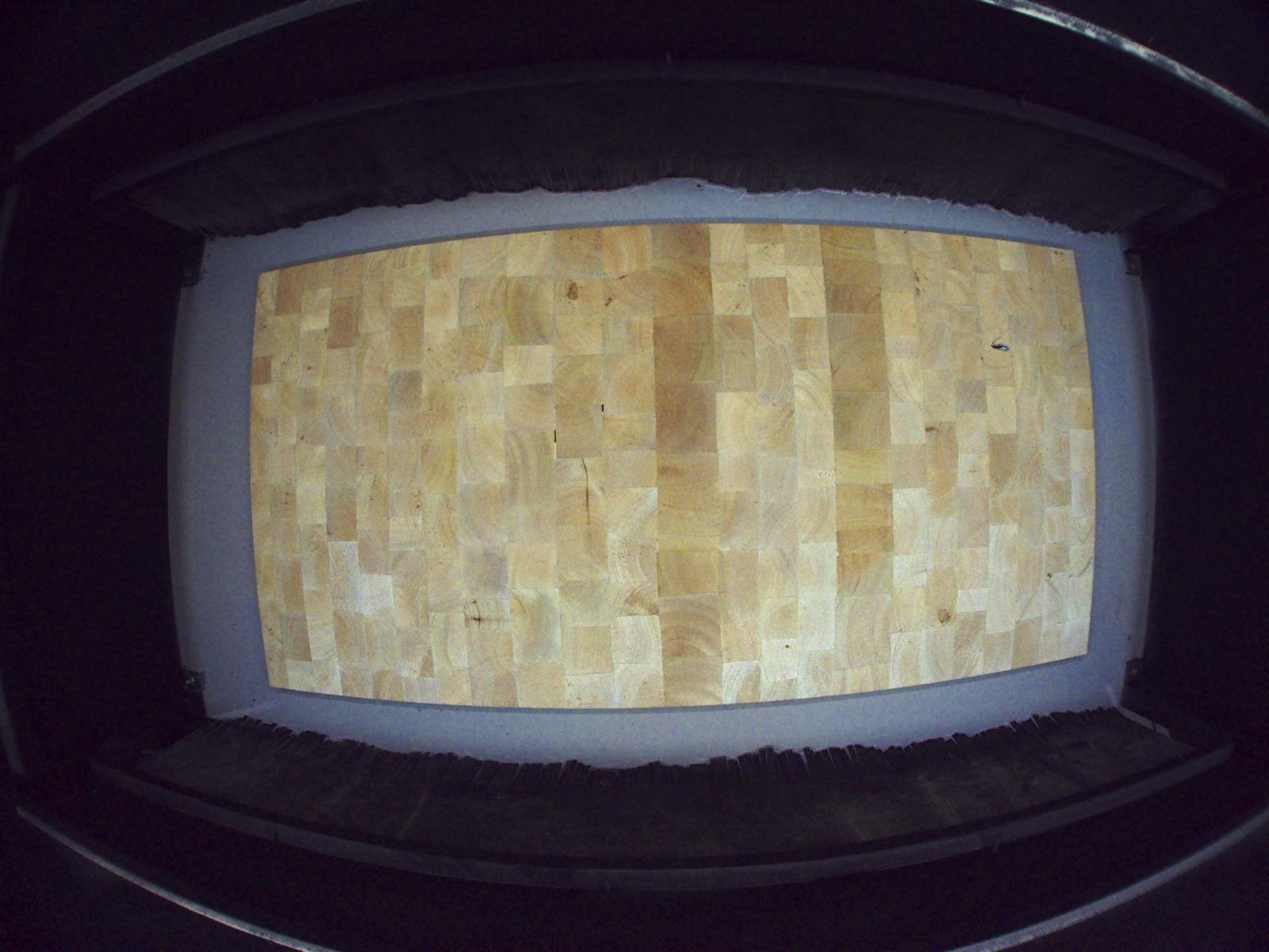sheck_ecuatoriano: (469, 598, 483, 629)
